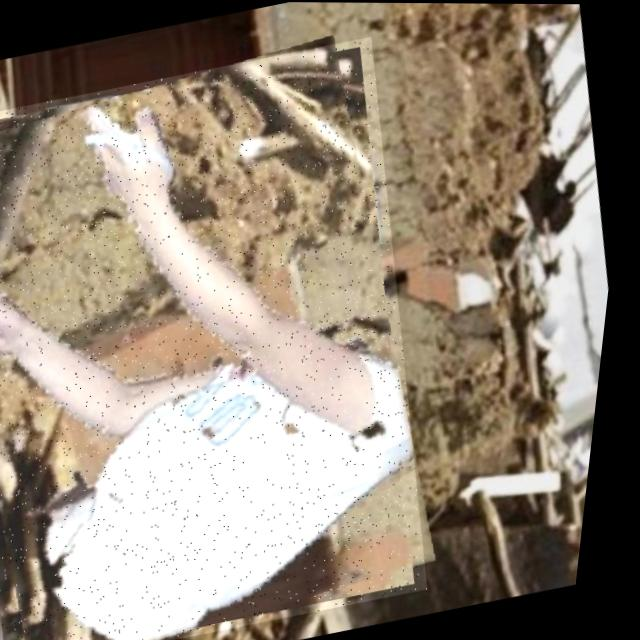Person in Rubble: (0, 34, 488, 640)
